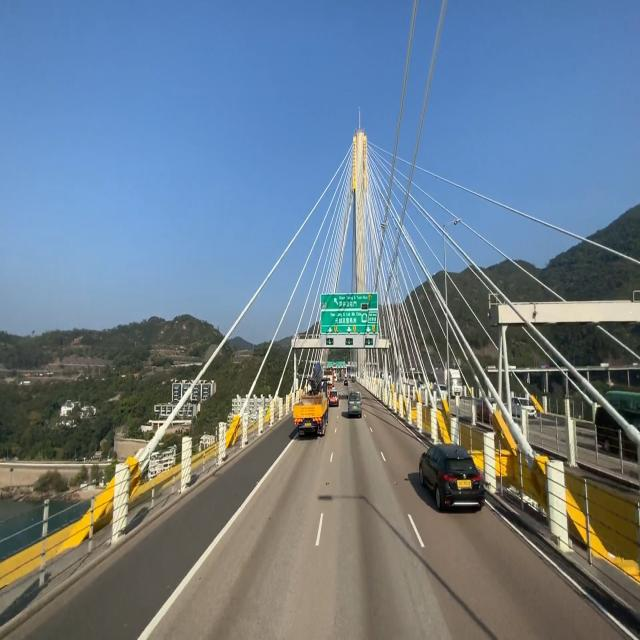Car: (414, 436, 485, 520), (296, 362, 332, 438), (349, 389, 364, 420)
